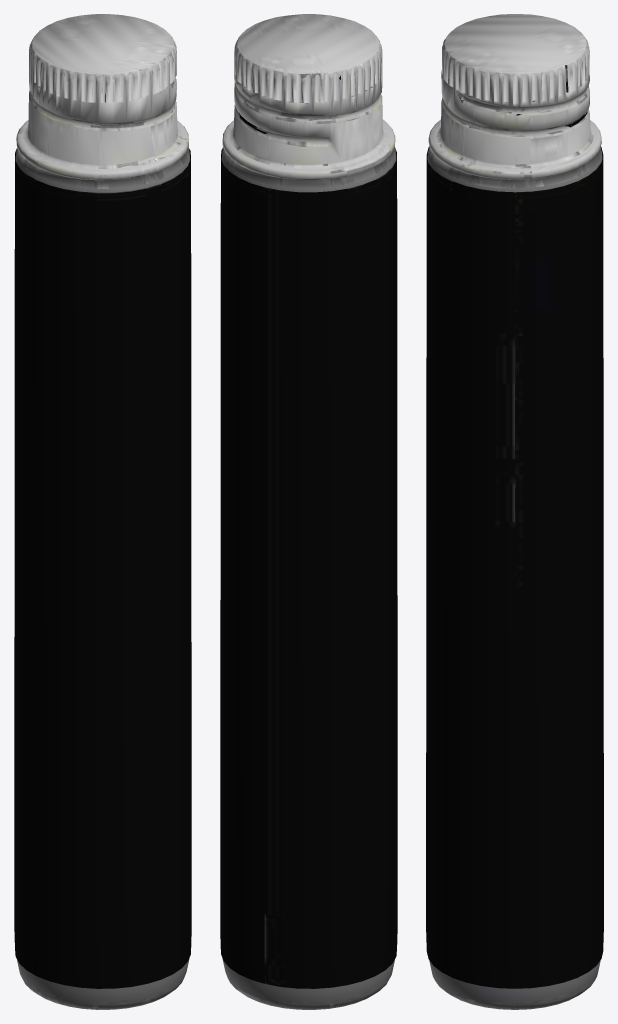
The model's file is vase_e22b6eb7_visual.obj.
The picture shows the model from 3 angles, left to right: view 1: azimuth 30°, elevation 25°; view 2: azimuth 150°, elevation 25°; view 3: azimuth 270°, elevation 25°; orthographic projection.
Bounding box in the file's own units: 0.0344 × 0.2 × 0.0344.
Materials: 1 (1 with a texture image).
